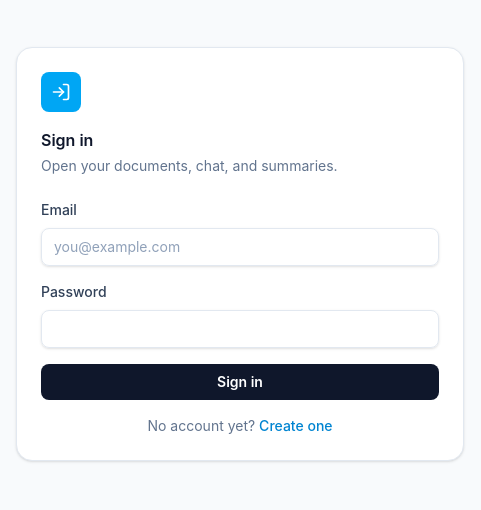
Test: LoginPage › shows the backend message when the credentials are rejected
Step 1. Type "ada@example.com" into the field labelled "Email" → (240, 247), box [41, 228, 439, 266]
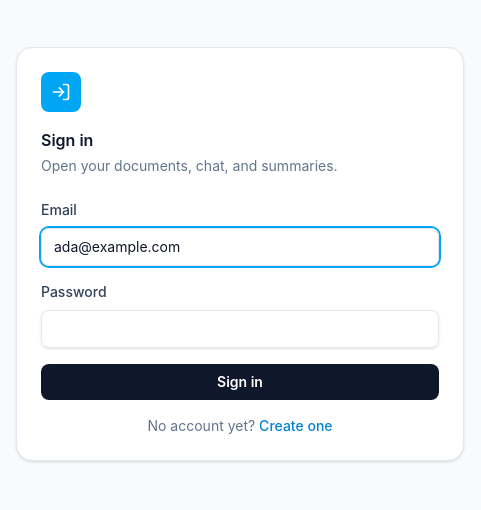
Step 2. Type "wrong-password" into the password field labelled "Password" → (240, 329), box [41, 310, 439, 348]
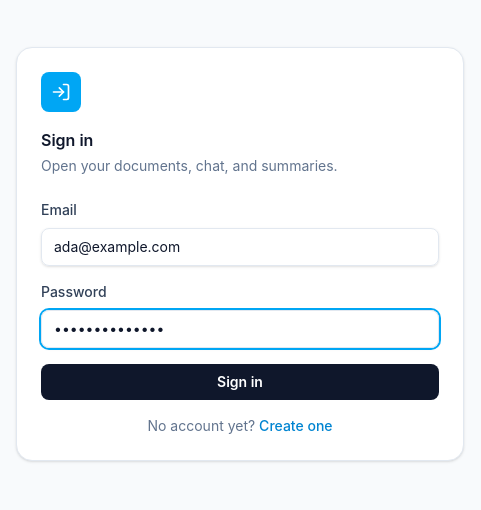
Step 3. Click the button "Sign in" → (240, 382), box [41, 364, 439, 400]
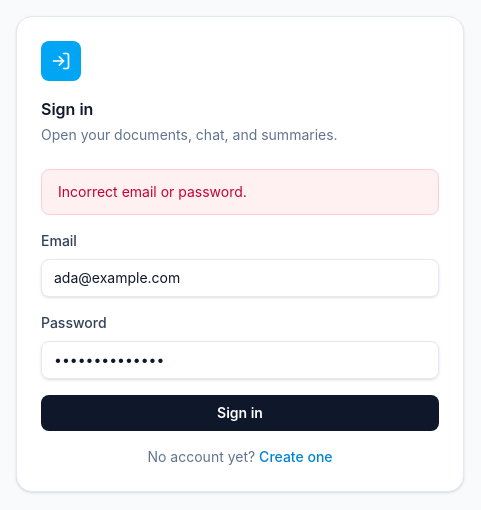
Expected: the heading "Sign in" is shown, [41, 99, 93, 119]
Now the message reads "Incorrect email or password.", box [58, 183, 247, 200]
